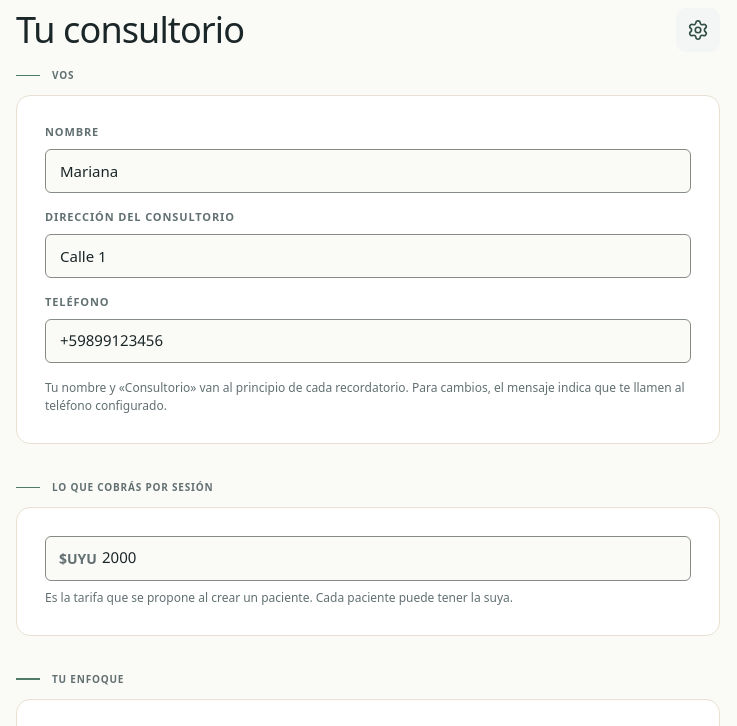
it: un campo inválido no frena a los demás: se guardan y solo él queda sin guardar
Clear the field labelled "Nombre" at {"x": 368, "y": 171}, box [46,150,690,192]
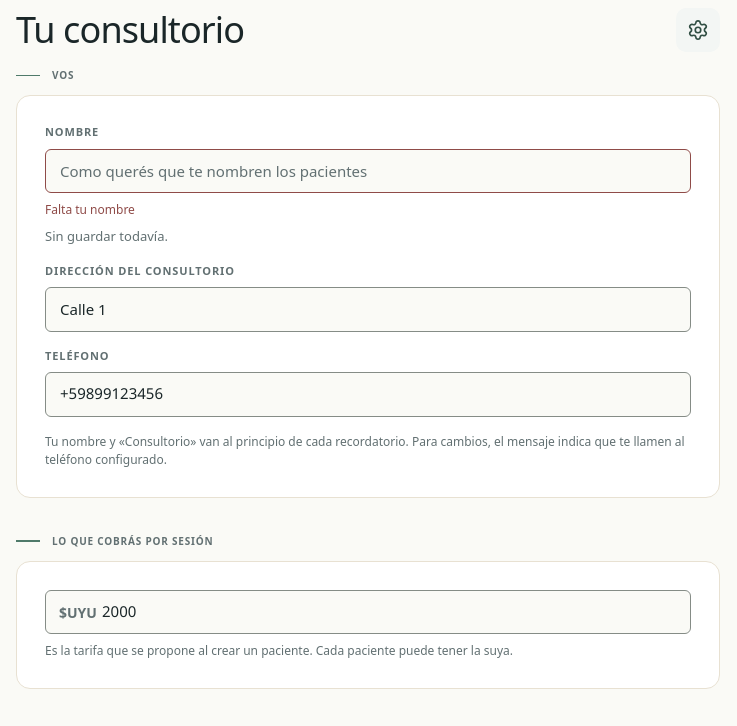
Replace the text in the field labelled "Dirección del consultorio" with "Otra calle" at {"x": 368, "y": 309}, box [46,288,690,330]
Wait 1500 ms
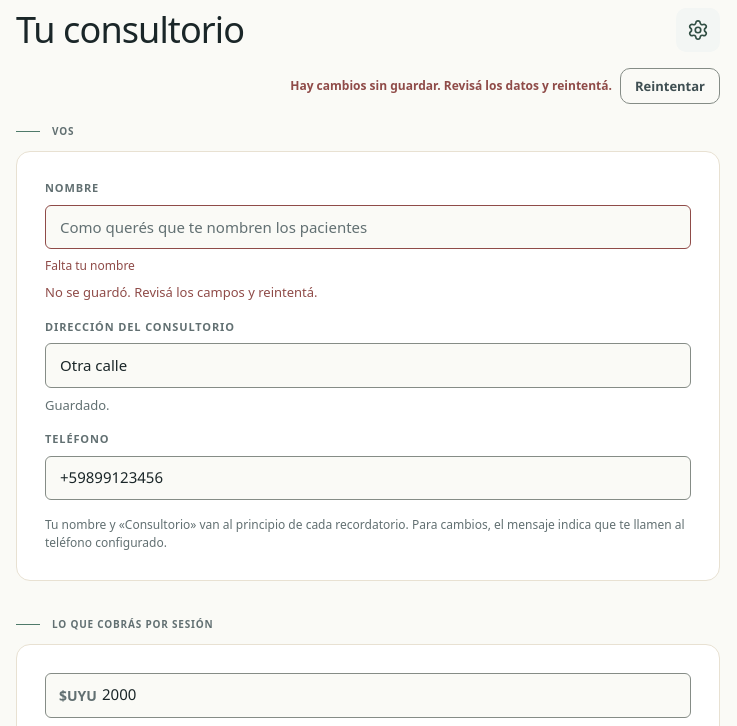
Now the message "No se guardó. Revisá los campos y reintentá." is shown, box [45,283,318,301]
Now the message "Guardado." is shown, box [45,396,110,414]
